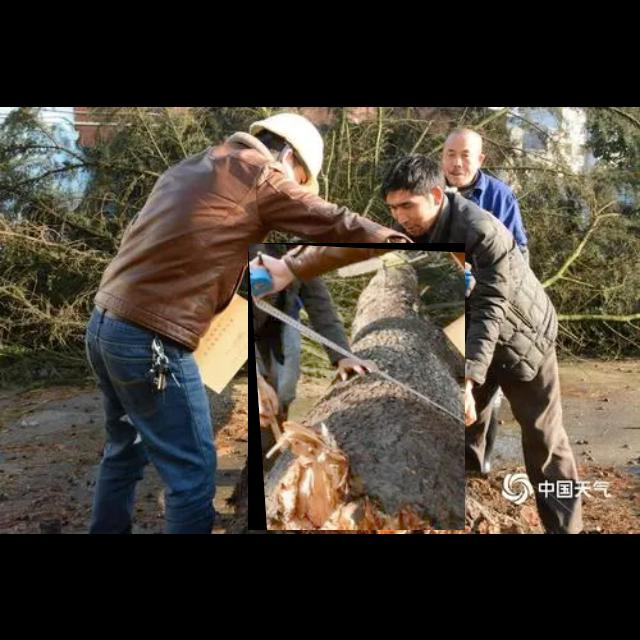Fallen Tree: (248, 243, 466, 531)
